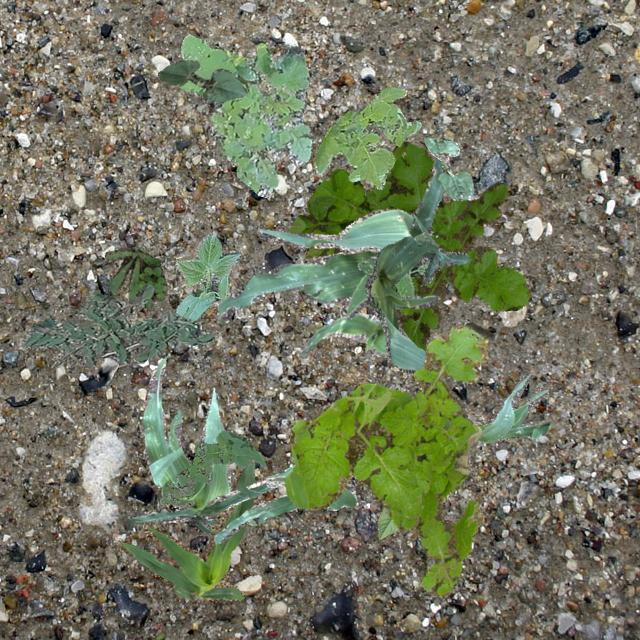crop: (216, 156, 444, 322), (126, 357, 294, 532), (117, 461, 255, 604), (364, 235, 469, 372), (298, 312, 452, 388), (212, 474, 356, 542), (174, 232, 240, 320), (472, 372, 550, 442), (157, 60, 246, 104), (423, 136, 472, 200), (376, 506, 400, 538), (226, 154, 236, 164)
weed: (284, 320, 494, 598), (286, 140, 528, 350), (178, 34, 310, 196), (22, 284, 214, 368), (314, 86, 420, 188), (158, 430, 264, 504), (356, 232, 436, 296), (104, 246, 166, 306)
